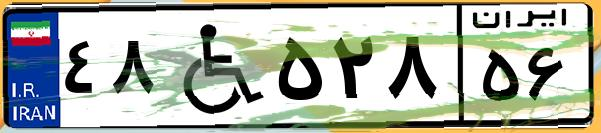2: (330, 28, 385, 110)
4: (57, 26, 110, 100)
5: (270, 28, 330, 110), (475, 38, 525, 113)
6: (525, 38, 570, 115)
8: (385, 28, 445, 110), (110, 28, 158, 98)
ژ (معلولین و جانبازان): (158, 12, 270, 120)
